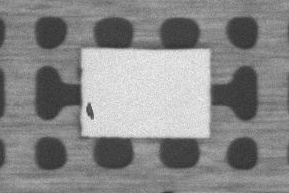DIE_INK: (84, 101, 93, 120)
